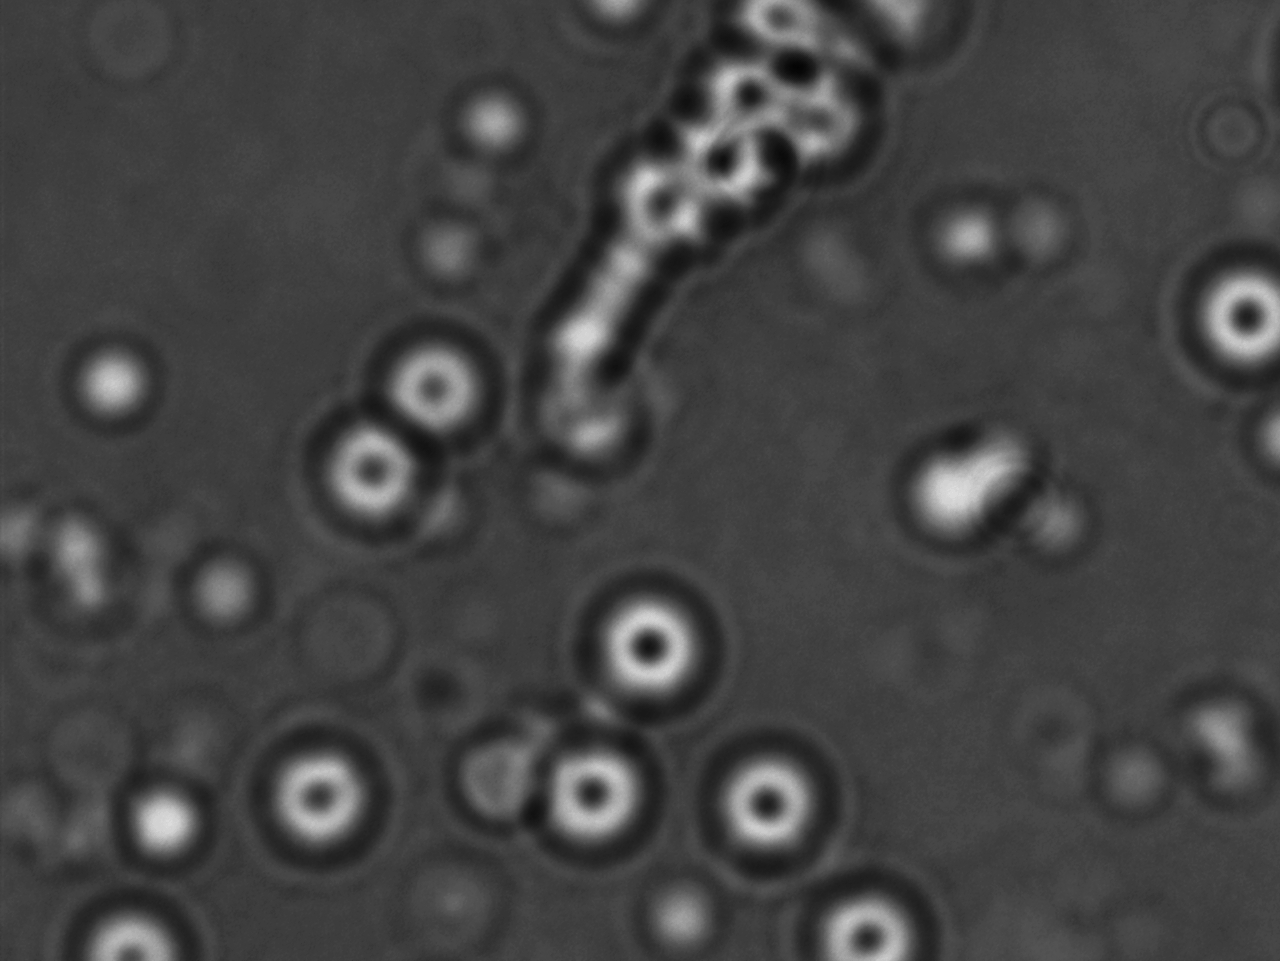depth:32: (572, 569, 732, 722), (697, 723, 849, 878), (243, 723, 399, 872), (304, 400, 452, 550), (527, 726, 669, 862), (366, 323, 505, 452), (1166, 249, 1280, 381)
